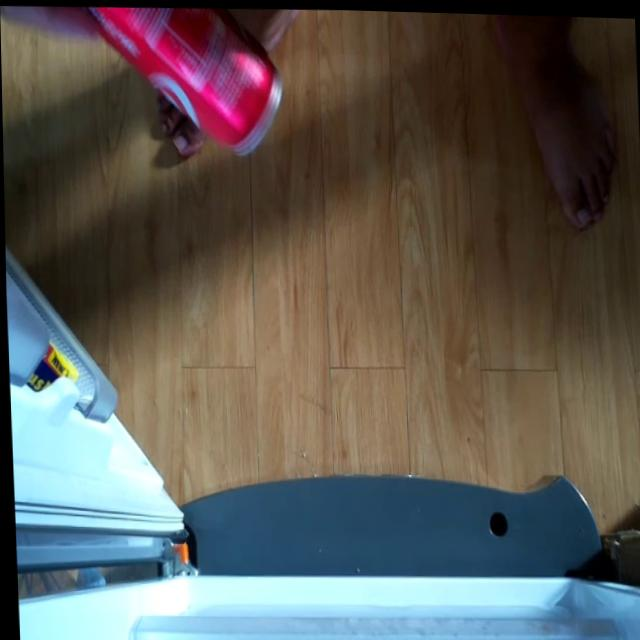coke: (75, 3, 286, 154)
